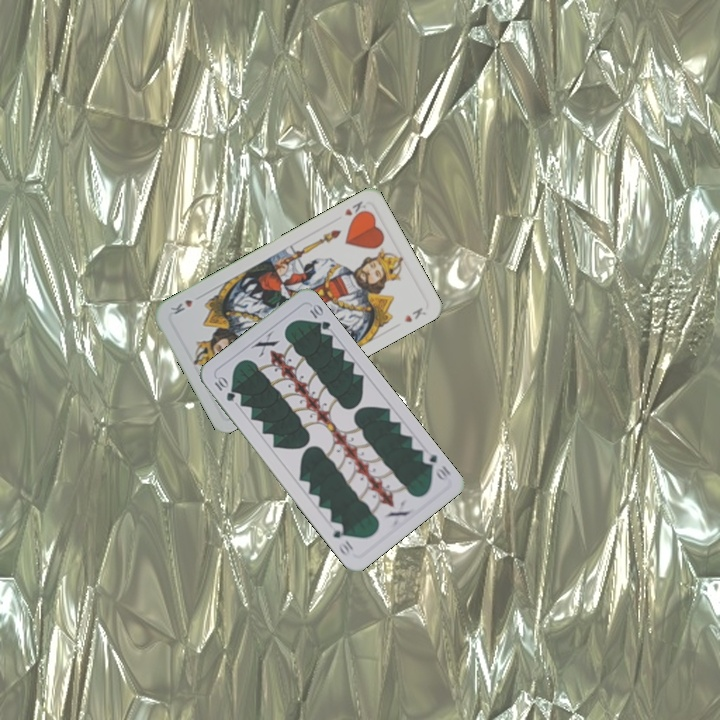G10: (418, 447, 453, 484), (210, 372, 238, 404)
HK: (340, 197, 370, 222)
